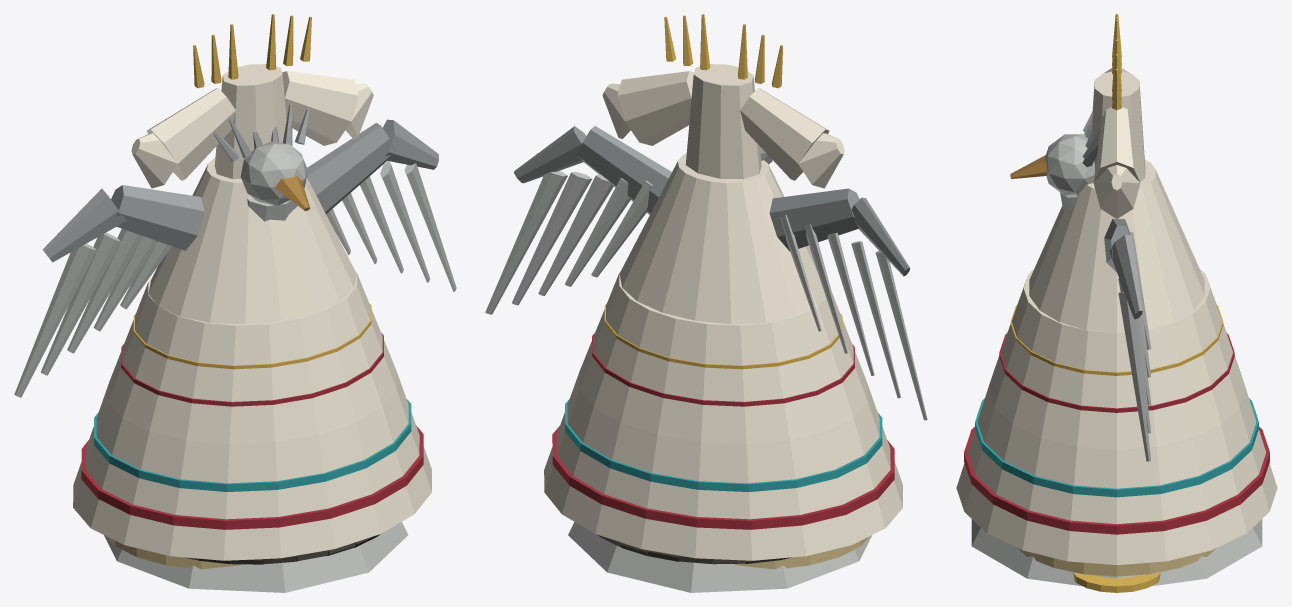
Rendered from simbolos_istmo.glb.
The picture shows the model from 3 angles, left to right: view 1: azimuth 30°, elevation 25°; view 2: azimuth 150°, elevation 25°; view 3: azimuth 270°, elevation 25°; orthographic projection. The views are drawn at different scales.
Parts seen in each view (by area): view 1: simbolo_vestido_festivo, simbolo_estatua_arpia, simbolo_sombrero_trenzado; view 2: simbolo_vestido_festivo, simbolo_estatua_arpia, simbolo_sombrero_trenzado; view 3: simbolo_vestido_festivo, simbolo_estatua_arpia, simbolo_sombrero_trenzado, simbolo_monedas_ficticias.
Boxes of the visible parts, x1,y1,x2,y2 form: simbolo_vestido_festivo: (73,14,431,560); simbolo_estatua_arpia: (14,103,456,592); simbolo_sombrero_trenzado: (106,534,380,569); simbolo_vestido_festivo: (544,14,902,560); simbolo_estatua_arpia: (485,126,927,592); simbolo_sombrero_trenzado: (597,534,869,569); simbolo_vestido_festivo: (956,14,1277,564); simbolo_estatua_arpia: (971,112,1262,586); simbolo_sombrero_trenzado: (1017,548,1216,576); simbolo_monedas_ficticias: (1073,572,1160,592).
Size of the model in its own units: 2.34 by 2.58 by 1.51.
